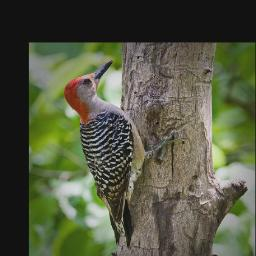Woodpecker: (55, 57, 191, 248)
